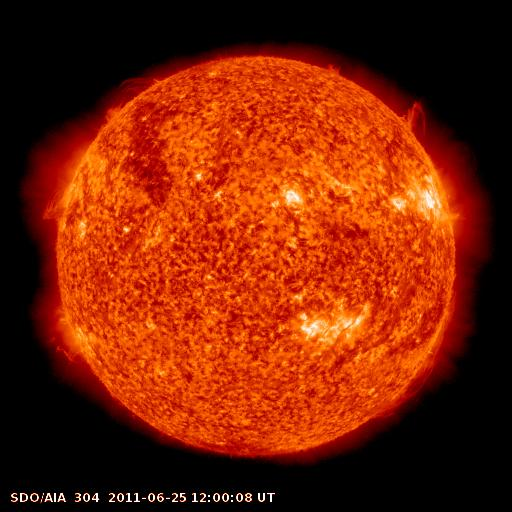prominence: (374, 284, 458, 421), (99, 68, 166, 126), (41, 314, 87, 368), (394, 90, 430, 137), (38, 183, 74, 228), (318, 50, 352, 82)
